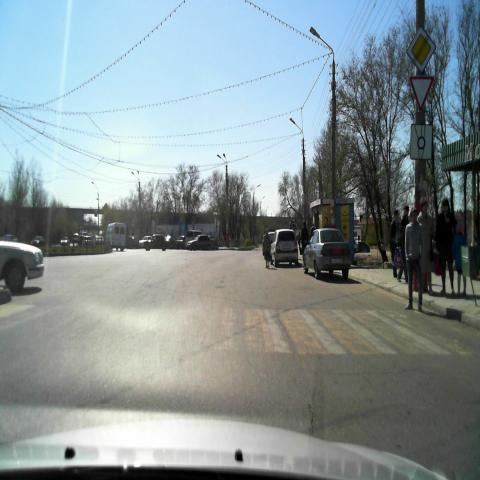2_2: (406, 28, 438, 73)
8_13_1: (409, 123, 432, 160)
